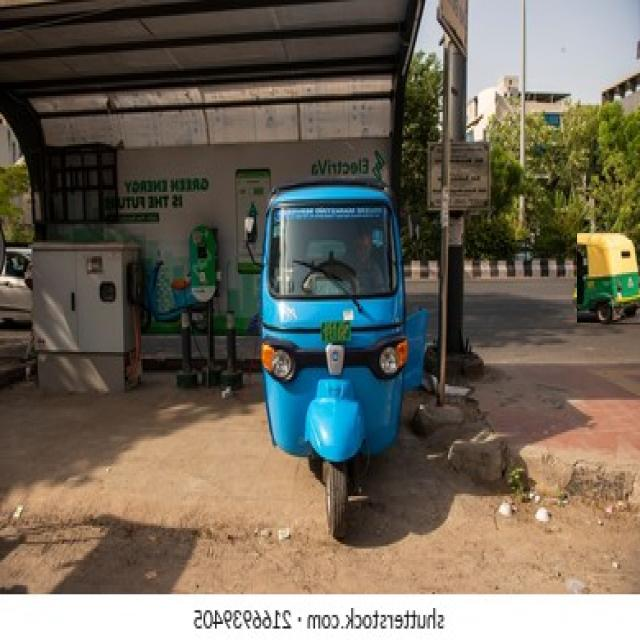autorickshaw: (261, 183, 427, 539), (577, 233, 640, 323)
